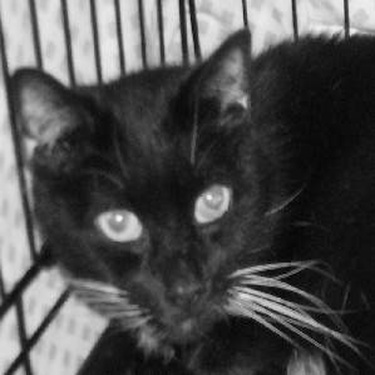cat: (1, 26, 364, 363)
